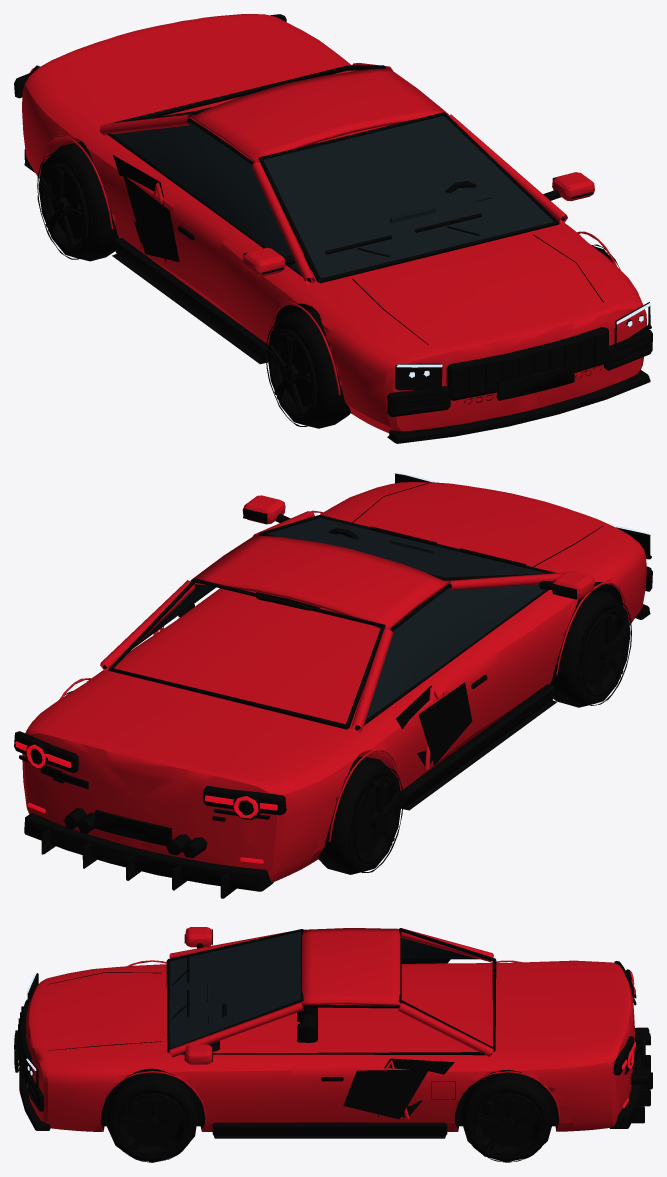
Rendered from ferrari-mid.glb.
3 views of the same model, one above another, from view 1: azimuth 30°, elevation 25°; view 2: azimuth 150°, elevation 25°; view 3: azimuth 270°, elevation 25° (orthographic). The views are drawn at different scales.
Parts seen in each view (by area): view 1: chassis.001__Automotive clearcoat, chassis.001__Solar glass, chassis.001__Vehicle detail atlas, wheel_FL.001__Vehicle detail atlas, wheel_RL.001__Vehicle detail atlas; view 2: chassis.001__Automotive clearcoat, chassis.001__Vehicle detail atlas, chassis.001__Solar glass, wheel_RL.001__Vehicle detail atlas, wheel_FL.001__Vehicle detail atlas, chassis.001__Red LED optics; view 3: chassis.001__Automotive clearcoat, chassis.001__Vehicle detail atlas, chassis.001__Solar glass, wheel_RR.001__Vehicle detail atlas, wheel_FR.001__Vehicle detail atlas.
Boxes of the visible parts, <box> form: chassis.001__Automotive clearcoat: <box>22,14,647,433</box>; chassis.001__Solar glass: <box>113,115,553,280</box>; chassis.001__Vehicle detail atlas: <box>14,14,652,443</box>; wheel_FL.001__Vehicle detail atlas: <box>266,308,350,428</box>; wheel_RL.001__Vehicle detail atlas: <box>37,141,118,261</box>; chassis.001__Automotive clearcoat: <box>22,482,646,881</box>; chassis.001__Vehicle detail atlas: <box>14,473,652,898</box>; chassis.001__Solar glass: <box>145,518,546,728</box>; wheel_RL.001__Vehicle detail atlas: <box>318,756,403,874</box>; wheel_FL.001__Vehicle detail atlas: <box>550,589,631,707</box>; chassis.001__Red LED optics: <box>15,741,277,863</box>; chassis.001__Automotive clearcoat: <box>26,927,635,1131</box>; chassis.001__Vehicle detail atlas: <box>14,928,652,1138</box>; chassis.001__Solar glass: <box>169,931,470,1048</box>; wheel_RR.001__Vehicle detail atlas: <box>461,1072,553,1162</box>; wheel_FR.001__Vehicle detail atlas: <box>106,1072,198,1162</box>.
Bounding box in the file's own units: 2.27 × 1.23 × 4.76.
8 materials, 6 textured.
